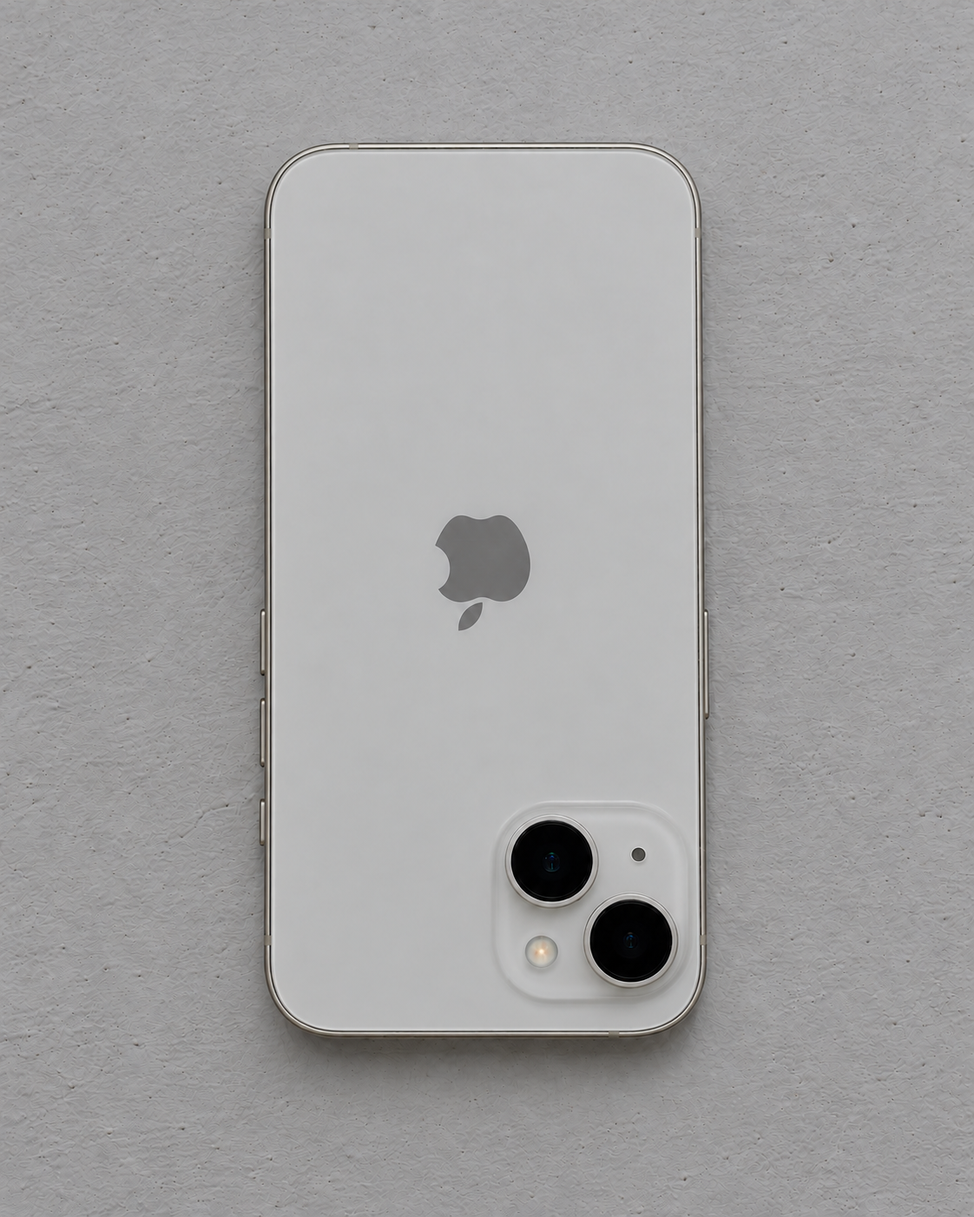iphone_14_white: (173, 112, 767, 1079), (502, 804, 711, 1004)
